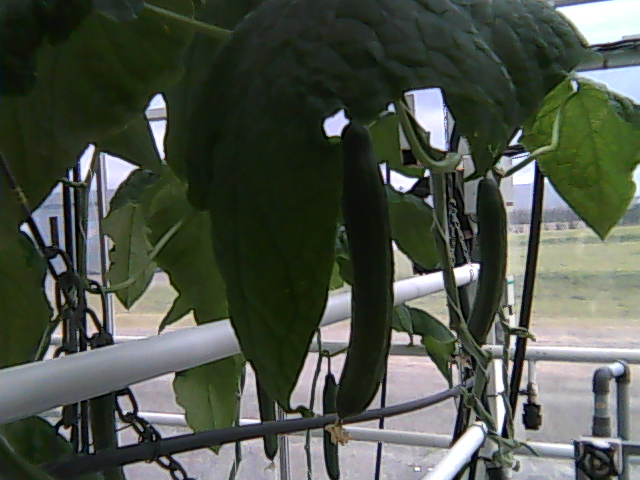concombre: (331, 113, 396, 449), (460, 174, 508, 362)
